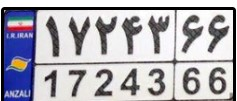character: (93, 11, 121, 60), (118, 11, 145, 59), (65, 13, 93, 59), (145, 11, 173, 57), (205, 11, 232, 56), (179, 12, 206, 55), (42, 13, 65, 60), (92, 66, 119, 99), (65, 66, 92, 99), (144, 66, 171, 98), (178, 65, 204, 97), (39, 67, 65, 99), (119, 67, 144, 99), (206, 64, 230, 96)
